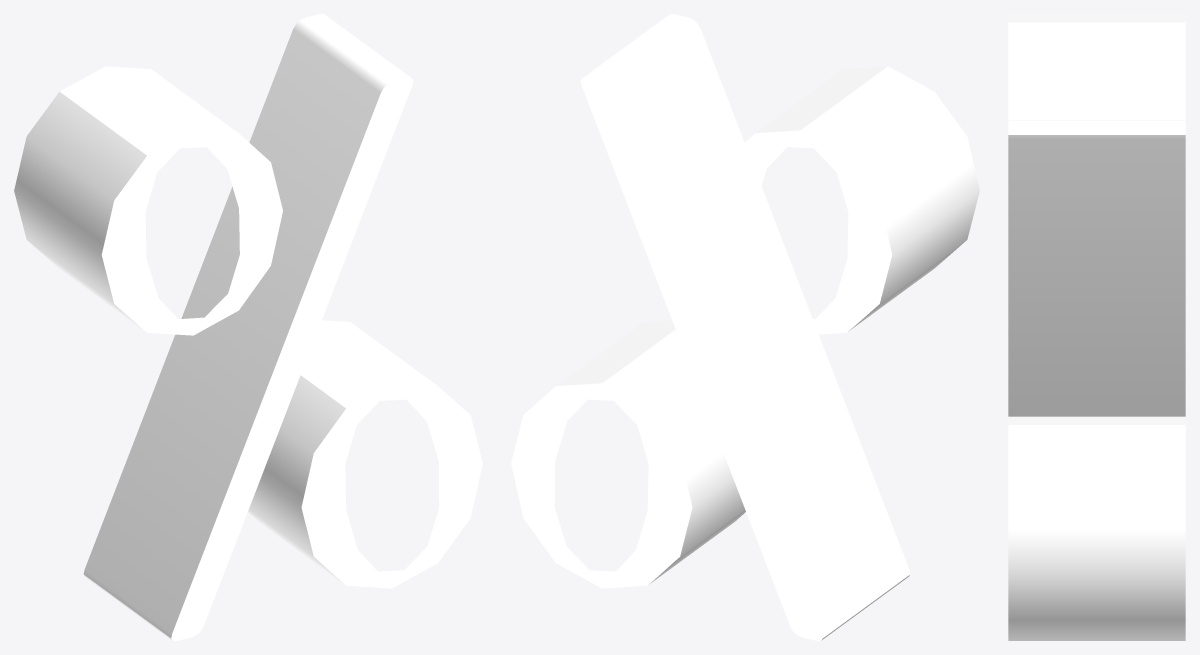
File: d2626d23-2797-4104-9a23-5483f60aec5a.glb
3 views of the same model, side by side, from view 1: azimuth 30°, elevation 25°; view 2: azimuth 150°, elevation 25°; view 3: azimuth 270°, elevation 25° (orthographic).
Visible parts, largest first — view 1: %_Soul_White; view 2: %_Soul_White; view 3: %_Soul_White.
Boxes of the visible parts, box(x1,y1,x2,y2) form: %_Soul_White: box(14, 14, 482, 640); %_Soul_White: box(511, 14, 979, 640); %_Soul_White: box(1008, 14, 1185, 640).
Size of what is drawn, in the model's own units: 0.113 by 0.1435 by 0.045.
Materials: 2 (2 with a texture image).
